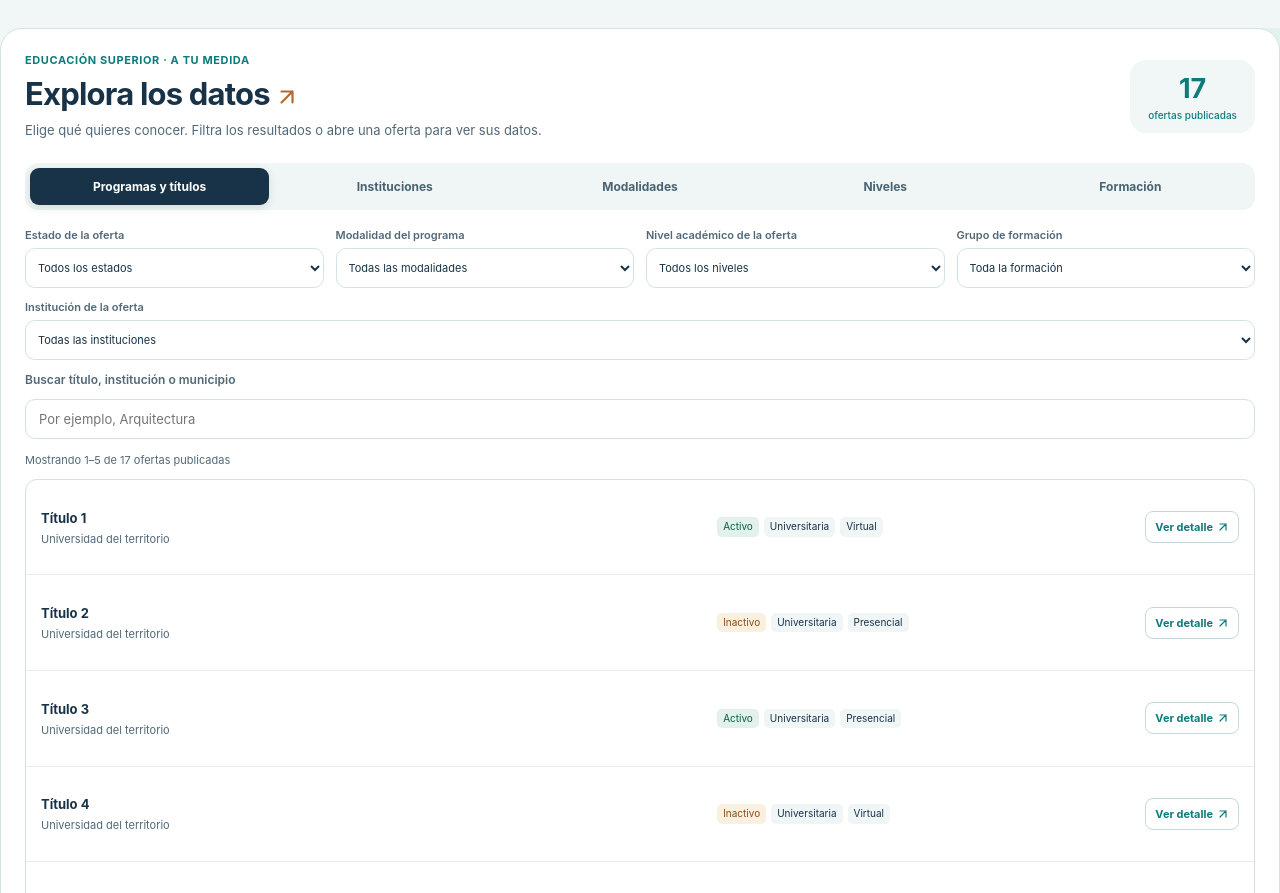
Test: explorador de educación superior › conserva la institución al comparar sus modalidades y niveles sin mezclar la oferta de otras
Click the tab "Instituciones" at (395, 186), box [275,168,514,205]
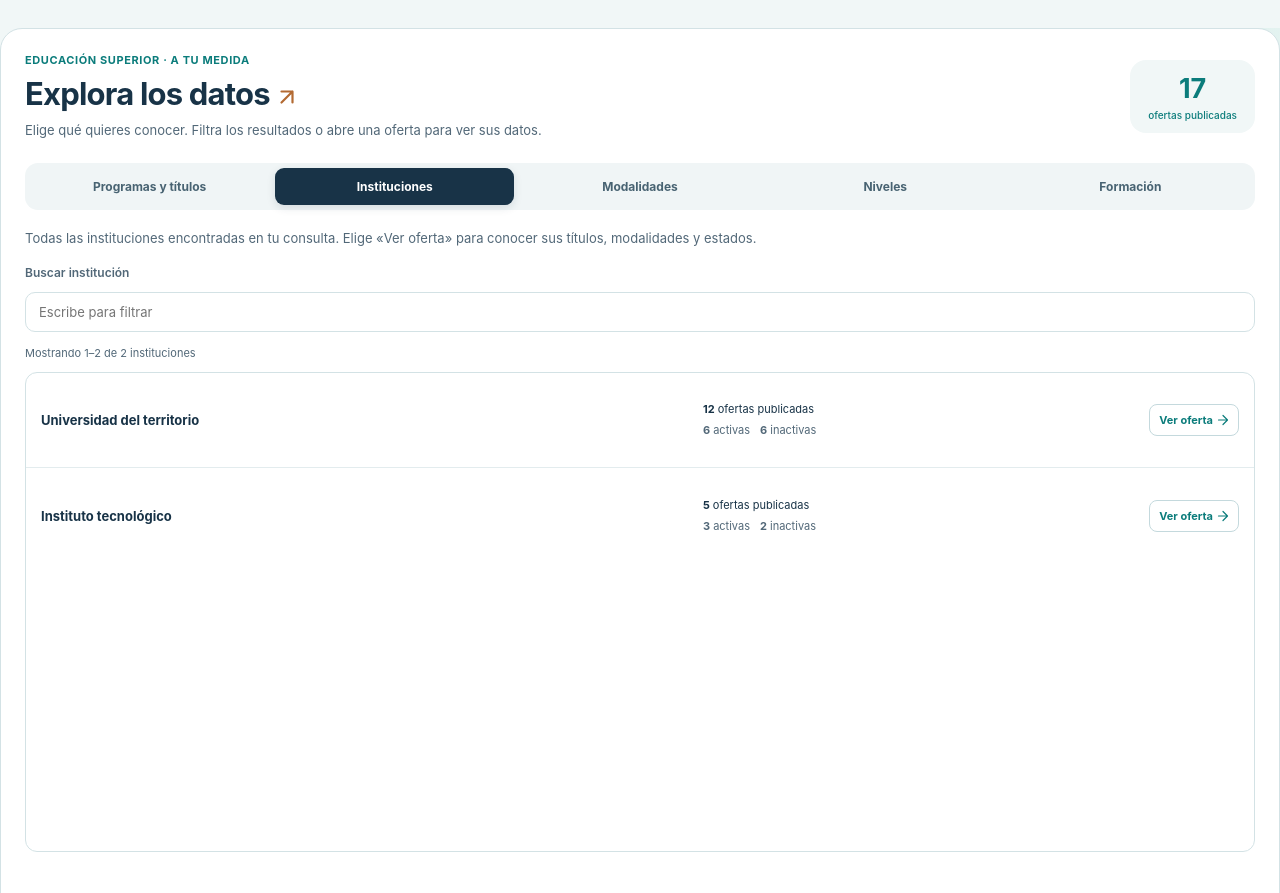
Click the button with aria-label "Ver oferta de Instituto tecnológico" at (1194, 516), box [1149,500,1239,532]
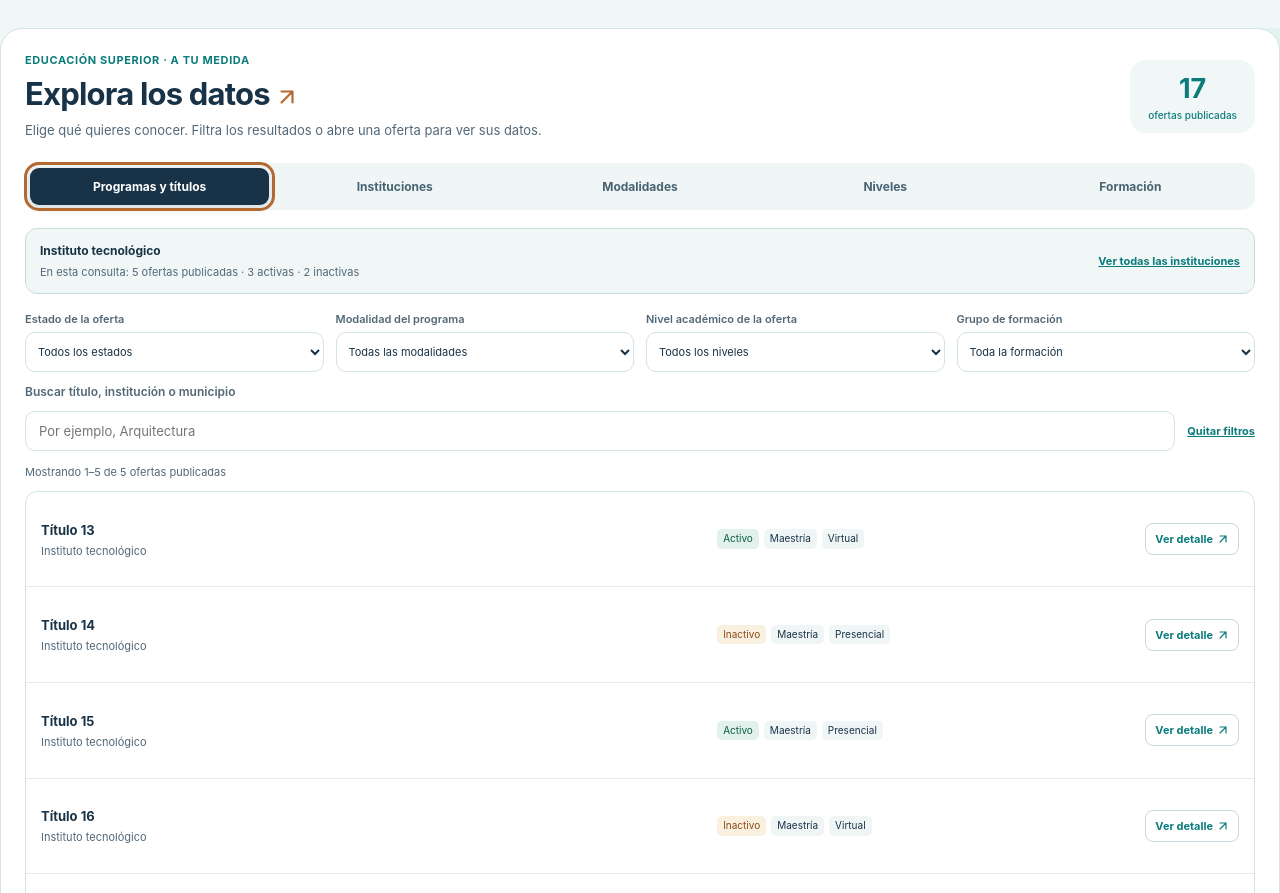
Click the tab "Modalidades" at (640, 186), box [520,168,760,205]
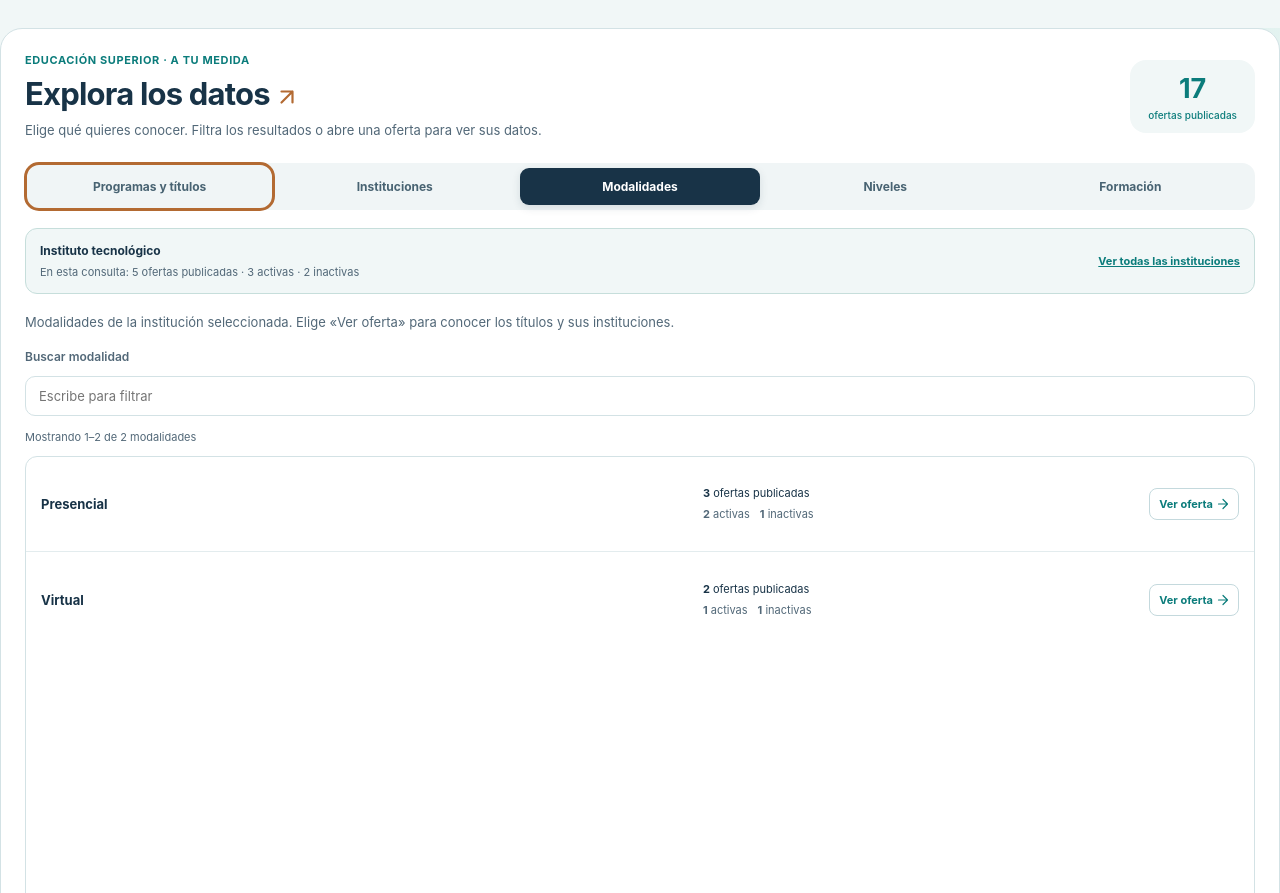
Expected: the text "2" in the row of "Virtual" is shown, [703,582,710,596]
Expected: the text "1" is shown 2 times, [703,603,708,617]; [758,603,762,617]
Expected: the text "Modalidades de la institución seleccionada" is shown, [25,314,674,330]
Click the button with aria-label "Ver oferta de Virtual" at (1194, 600), box [1149,584,1239,616]
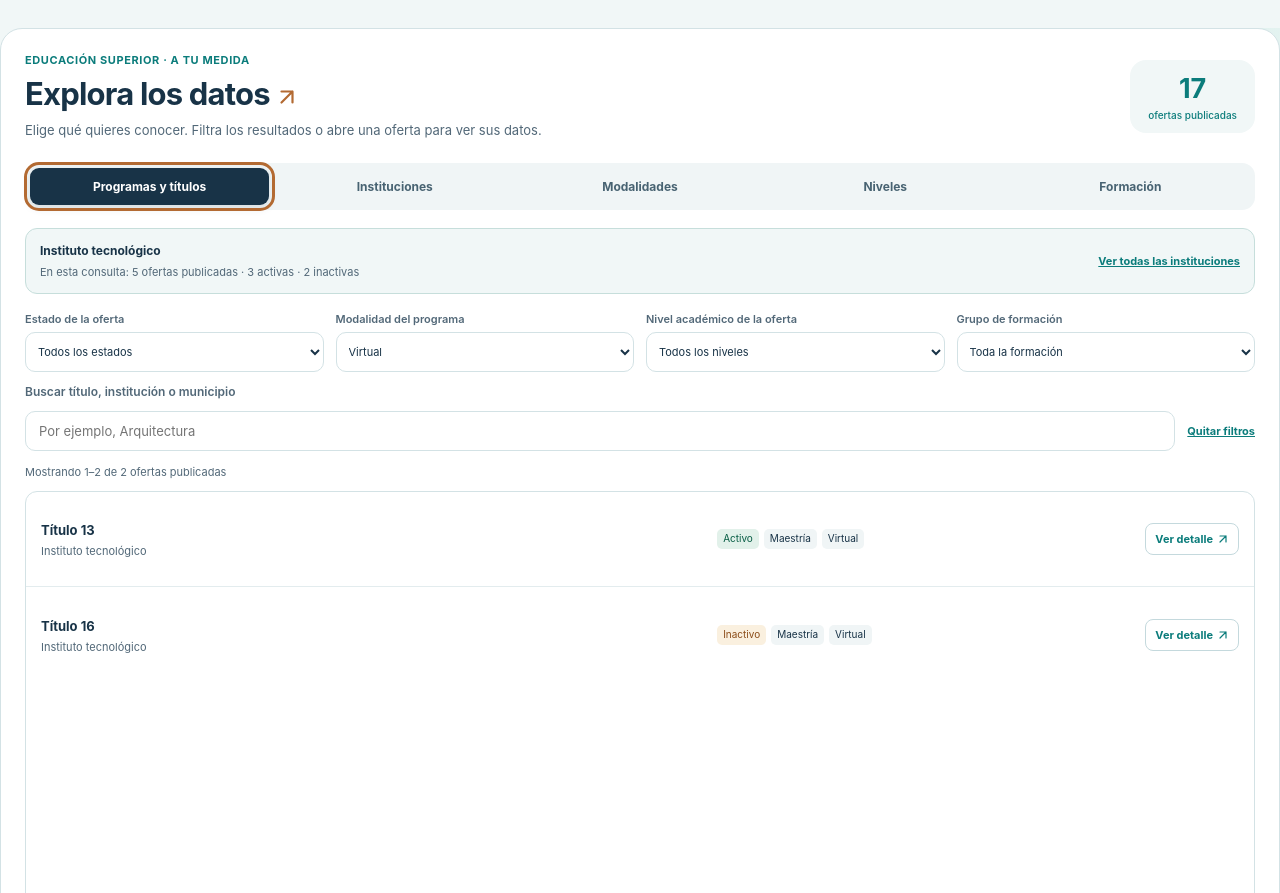
Expected: the text "Universidad del territorio" is not shown
Expected: the text "Instituto tecnológico" is shown 2 times, [41,544,147,558]; [41,640,147,654]
Expected: the number of list items is 2, [26,492,1254,587]; [41,618,1239,654]
Click the tab "Niveles" at (885, 186), box [766,168,1005,205]
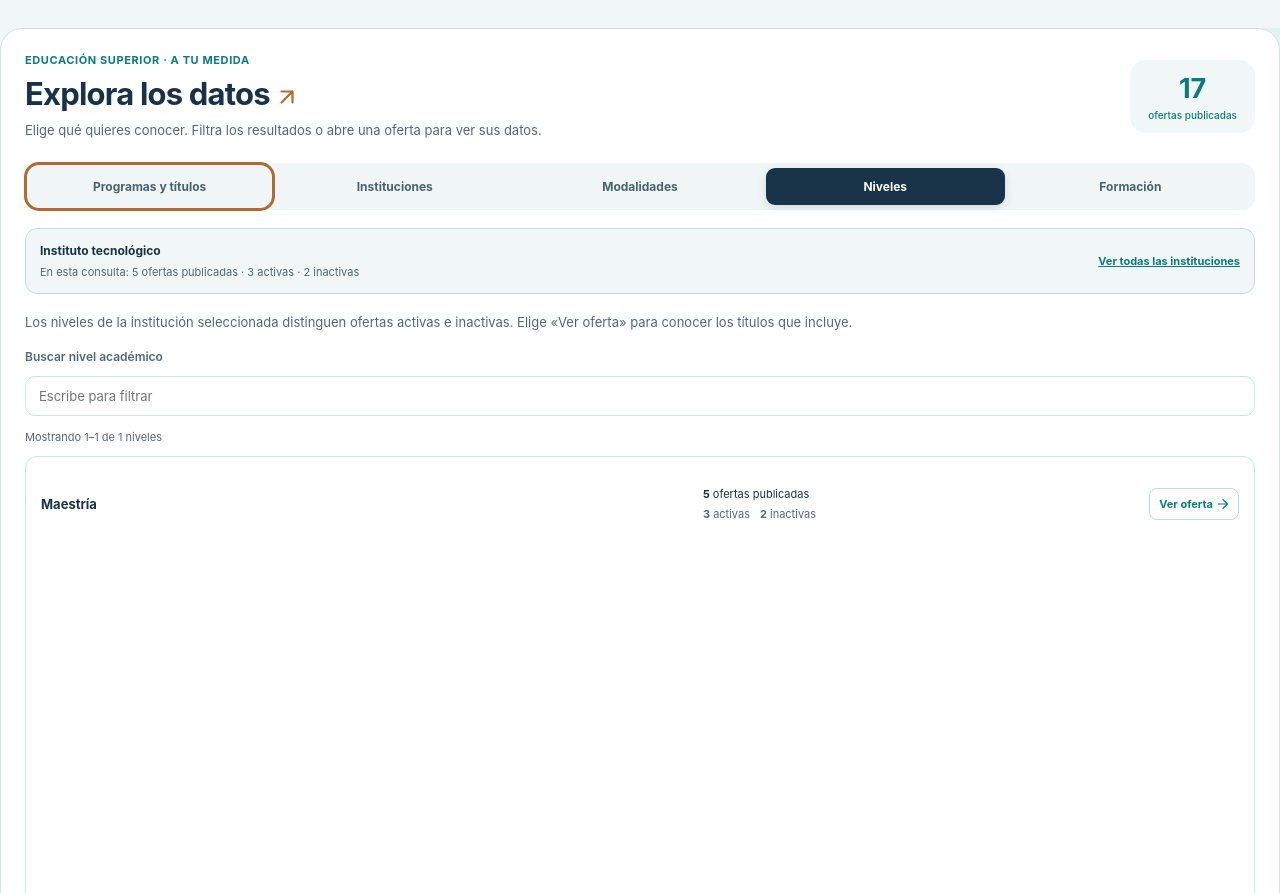
Expected: the button with aria-label "Ver oferta de Maestría" is shown, [1149,488,1239,520]
